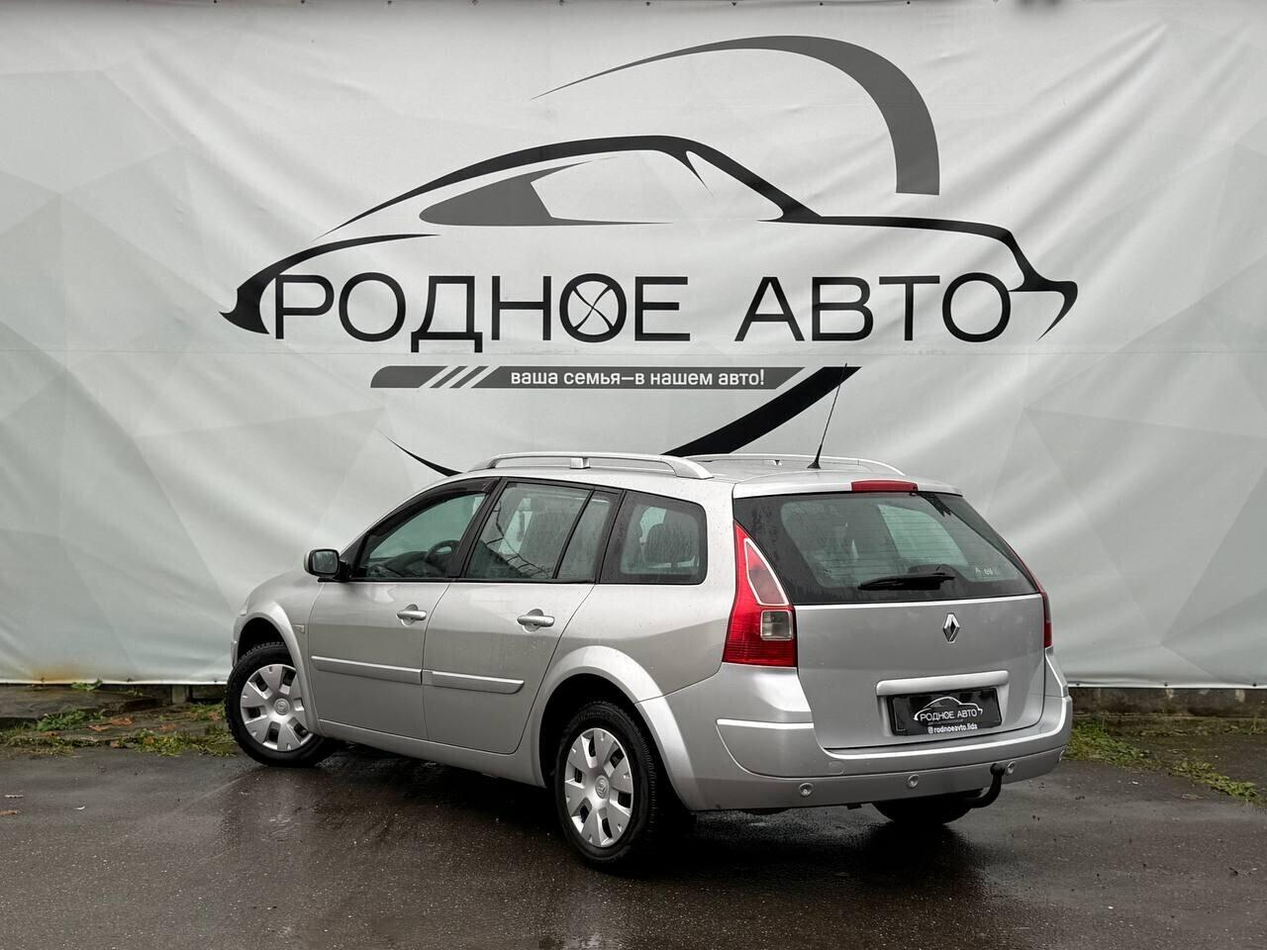Megane_2005-2009: (217, 445, 1069, 884)
